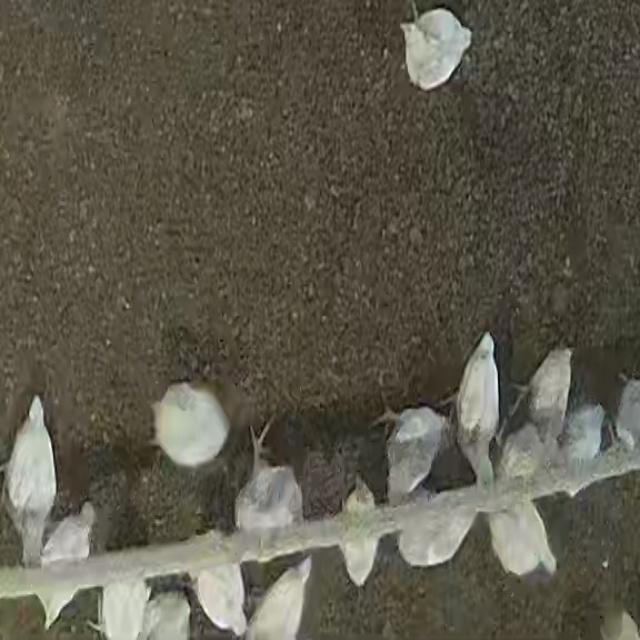chicken: (148, 376, 234, 472), (452, 328, 502, 482), (397, 4, 478, 90)
